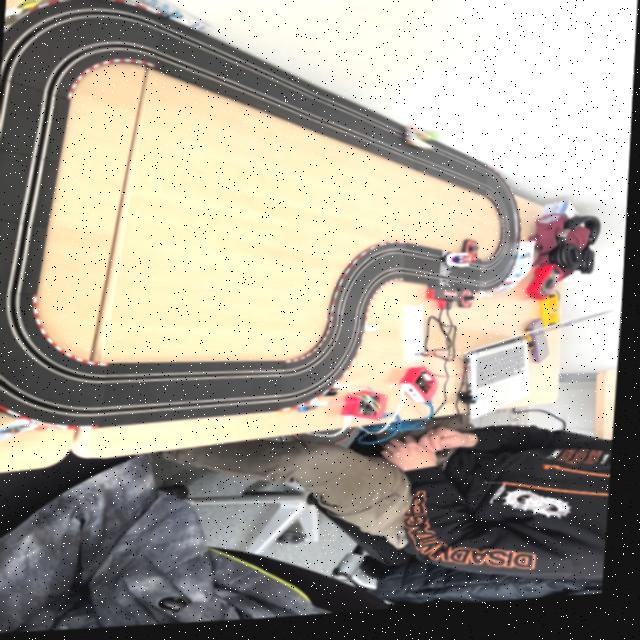mario: (447, 258, 484, 276)
yoshi: (402, 129, 440, 160)
